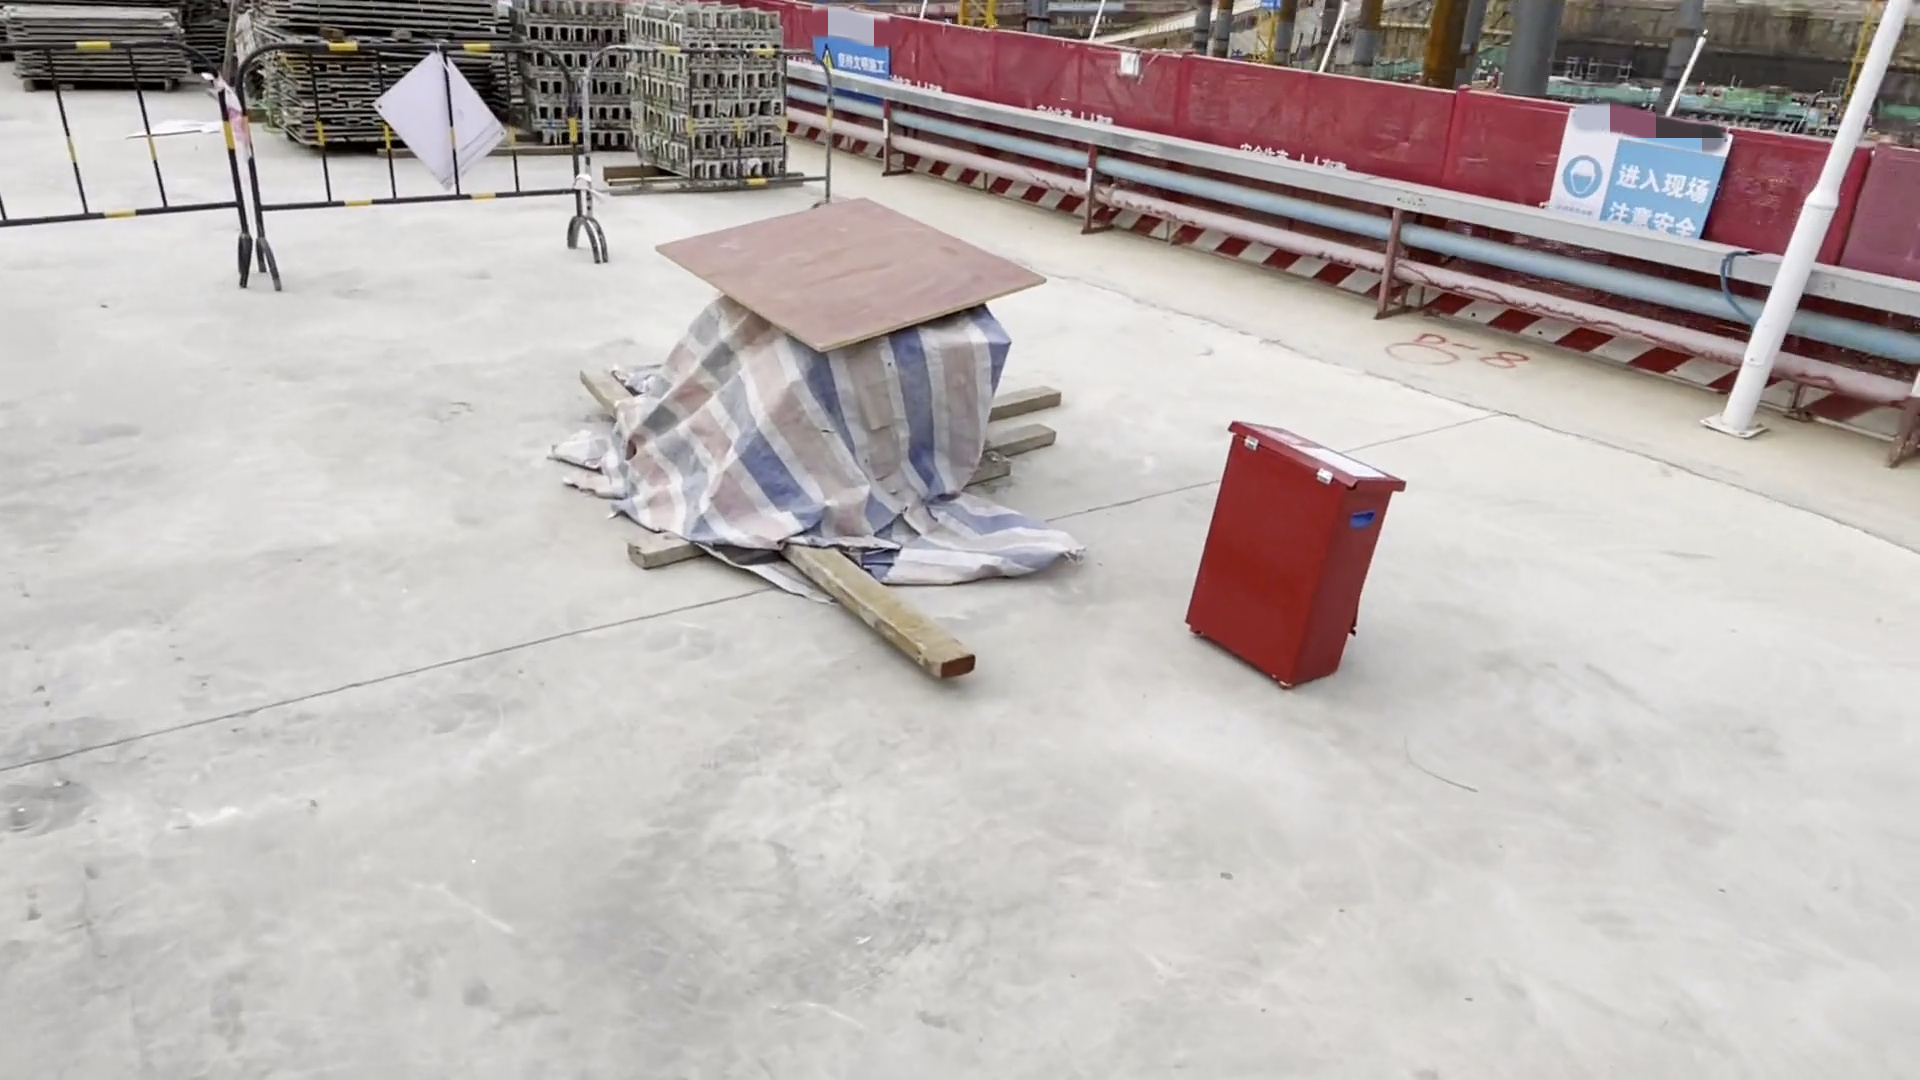fence: (1, 36, 844, 291)
slogan: (1549, 104, 1734, 243), (810, 36, 893, 79)
